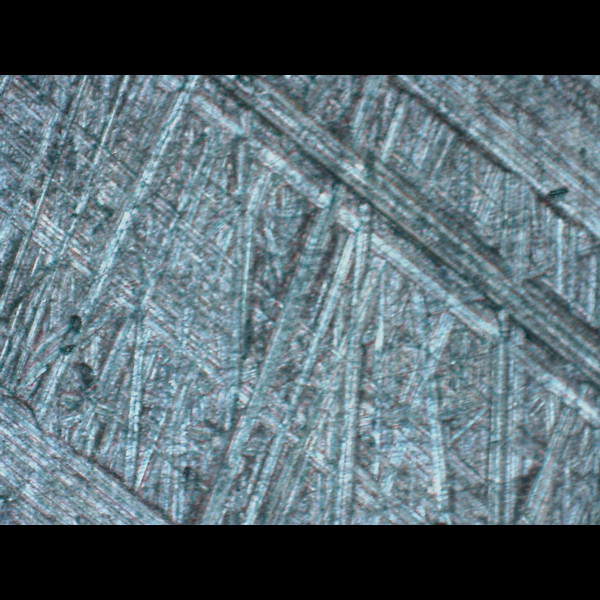d: (155, 74, 599, 444), (0, 386, 186, 524)
